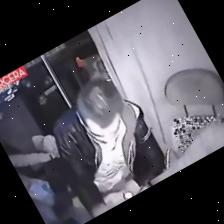person: (54, 78, 165, 216)
